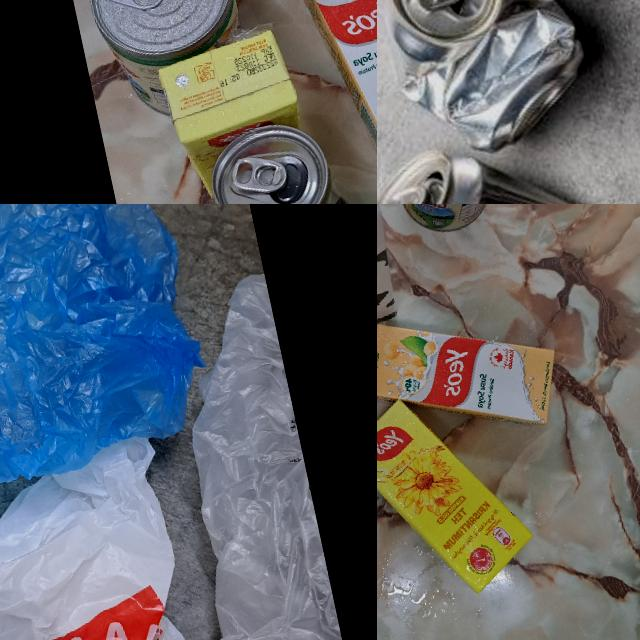aba de lata: (225, 146, 288, 198), (95, 0, 170, 22), (379, 182, 432, 204), (412, 0, 465, 14)
caixinha: (377, 377, 537, 610), (377, 292, 568, 456), (156, 23, 314, 204), (285, 0, 377, 169)
lata: (377, 0, 603, 167), (377, 105, 640, 204), (75, 0, 257, 126), (194, 109, 376, 204), (377, 204, 532, 243)
sacola plástica: (128, 269, 356, 640), (0, 204, 225, 555), (0, 418, 296, 640)
